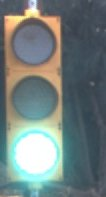Green: (3, 6, 70, 185)
